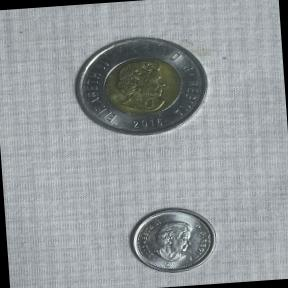Canada-10cent-B: (121, 200, 223, 280)
Canada-2Dollar-B: (65, 28, 217, 146)
